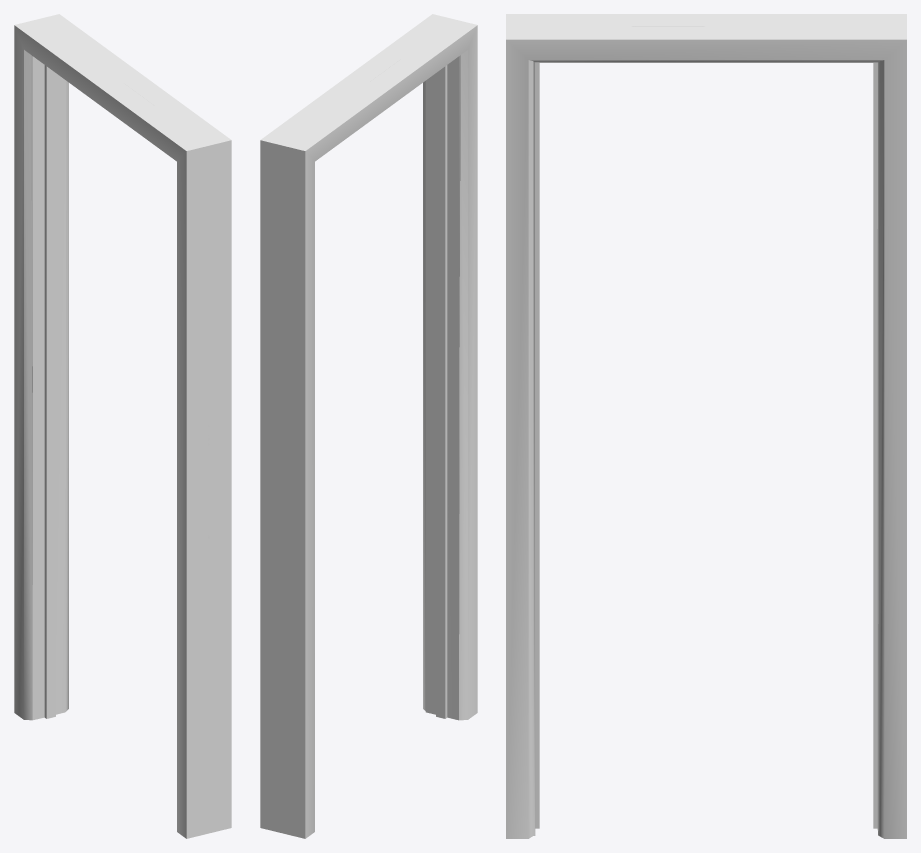
Rendered from Door0001.obj.
3 views of the same model, side by side, from view 1: azimuth 30°, elevation 25°; view 2: azimuth 150°, elevation 25°; view 3: azimuth 270°, elevation 25° (orthographic). The views are drawn at different scales.
Bounding box in the file's own units: 0.146 × 2.12 × 0.964.
1 material, 1 textured.
